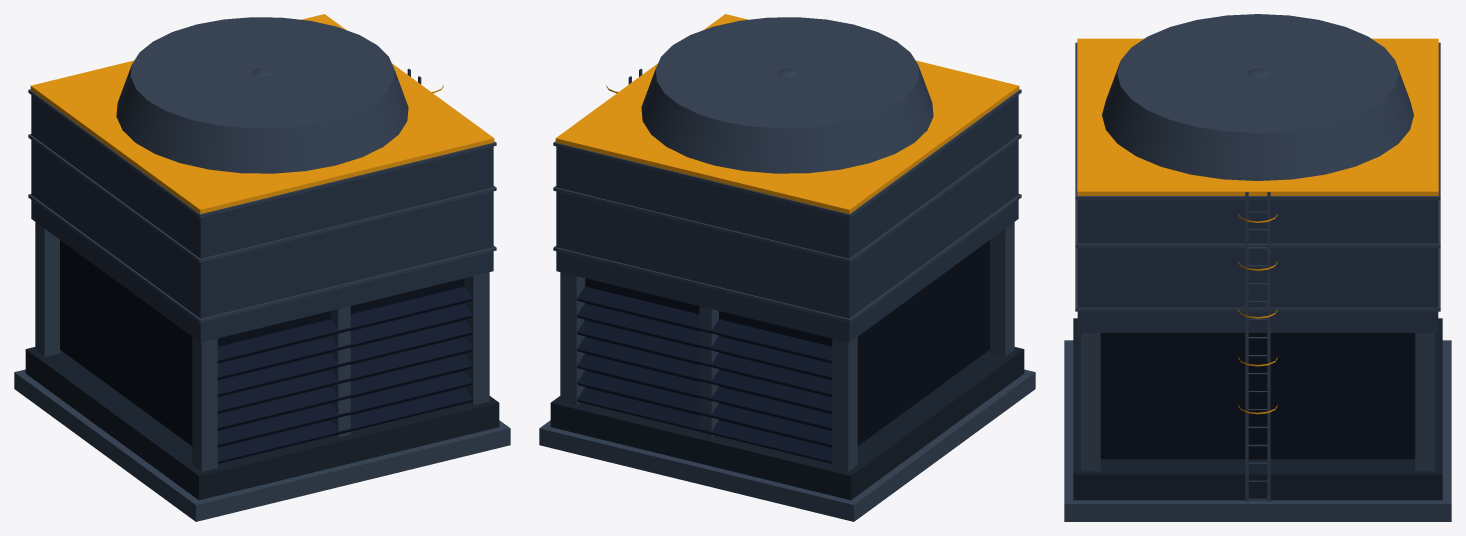
The model's file is cooling_tower.glb.
3 renders of one model, left to right at view 1: azimuth 30°, elevation 25°; view 2: azimuth 150°, elevation 25°; view 3: azimuth 270°, elevation 25°, orthographic. The views are drawn at different scales.
Parts seen in each view (by area): view 1: object 28, object 32, object 27, object 6, object 33, object 1, object 24, object 26, object 20, object 22, object 14, object 16 (+8 smaller); view 2: object 28, object 32, object 27, object 6, object 33, object 1, object 23, object 25, object 19, object 21, object 13, object 15 (+8 smaller); view 3: object 28, object 32, object 27, object 33, object 6, object 1, object 8, object 10, object 31, object 29, object 30, object 35 (+1 smaller).
Boxes of the visible parts, box(x1,y1,x2,y2) form: object 28: box(31, 95, 493, 342); object 32: box(116, 17, 408, 173); object 27: box(60, 240, 464, 447); object 6: box(25, 347, 499, 500); object 33: box(30, 14, 494, 213); object 1: box(14, 369, 510, 521); object 24: box(217, 303, 472, 379); object 26: box(217, 286, 472, 362); object 20: box(217, 337, 472, 413); object 22: box(217, 320, 472, 396); object 14: box(217, 387, 472, 463); object 16: box(217, 370, 472, 446); object 28: box(556, 95, 1018, 342); object 32: box(641, 17, 933, 173); object 27: box(585, 240, 989, 447); object 6: box(550, 347, 1024, 500); object 33: box(555, 14, 1019, 213); object 1: box(539, 369, 1035, 521); object 23: box(577, 303, 832, 379); object 25: box(577, 286, 832, 362); object 19: box(577, 337, 832, 413); object 21: box(577, 320, 832, 396); object 13: box(577, 387, 832, 463); object 15: box(577, 370, 832, 446); object 28: box(1077, 200, 1438, 332); object 32: box(1102, 14, 1413, 180); object 27: box(1100, 333, 1415, 459); object 33: box(1077, 38, 1438, 195); object 6: box(1073, 318, 1442, 500); object 1: box(1064, 340, 1451, 521); object 8: box(1415, 333, 1434, 471); object 10: box(1081, 333, 1100, 471); object 31: box(1075, 42, 1440, 199); object 29: box(1075, 248, 1440, 311); object 30: box(1075, 200, 1440, 247); object 35: box(1267, 192, 1270, 501).
Size of the model in its own units: 9.4 by 9.25 by 8.8.
